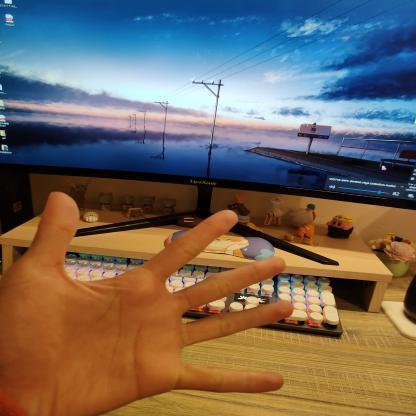bare_hand: (1, 174, 308, 416)
